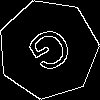G: (23, 24, 81, 83)
